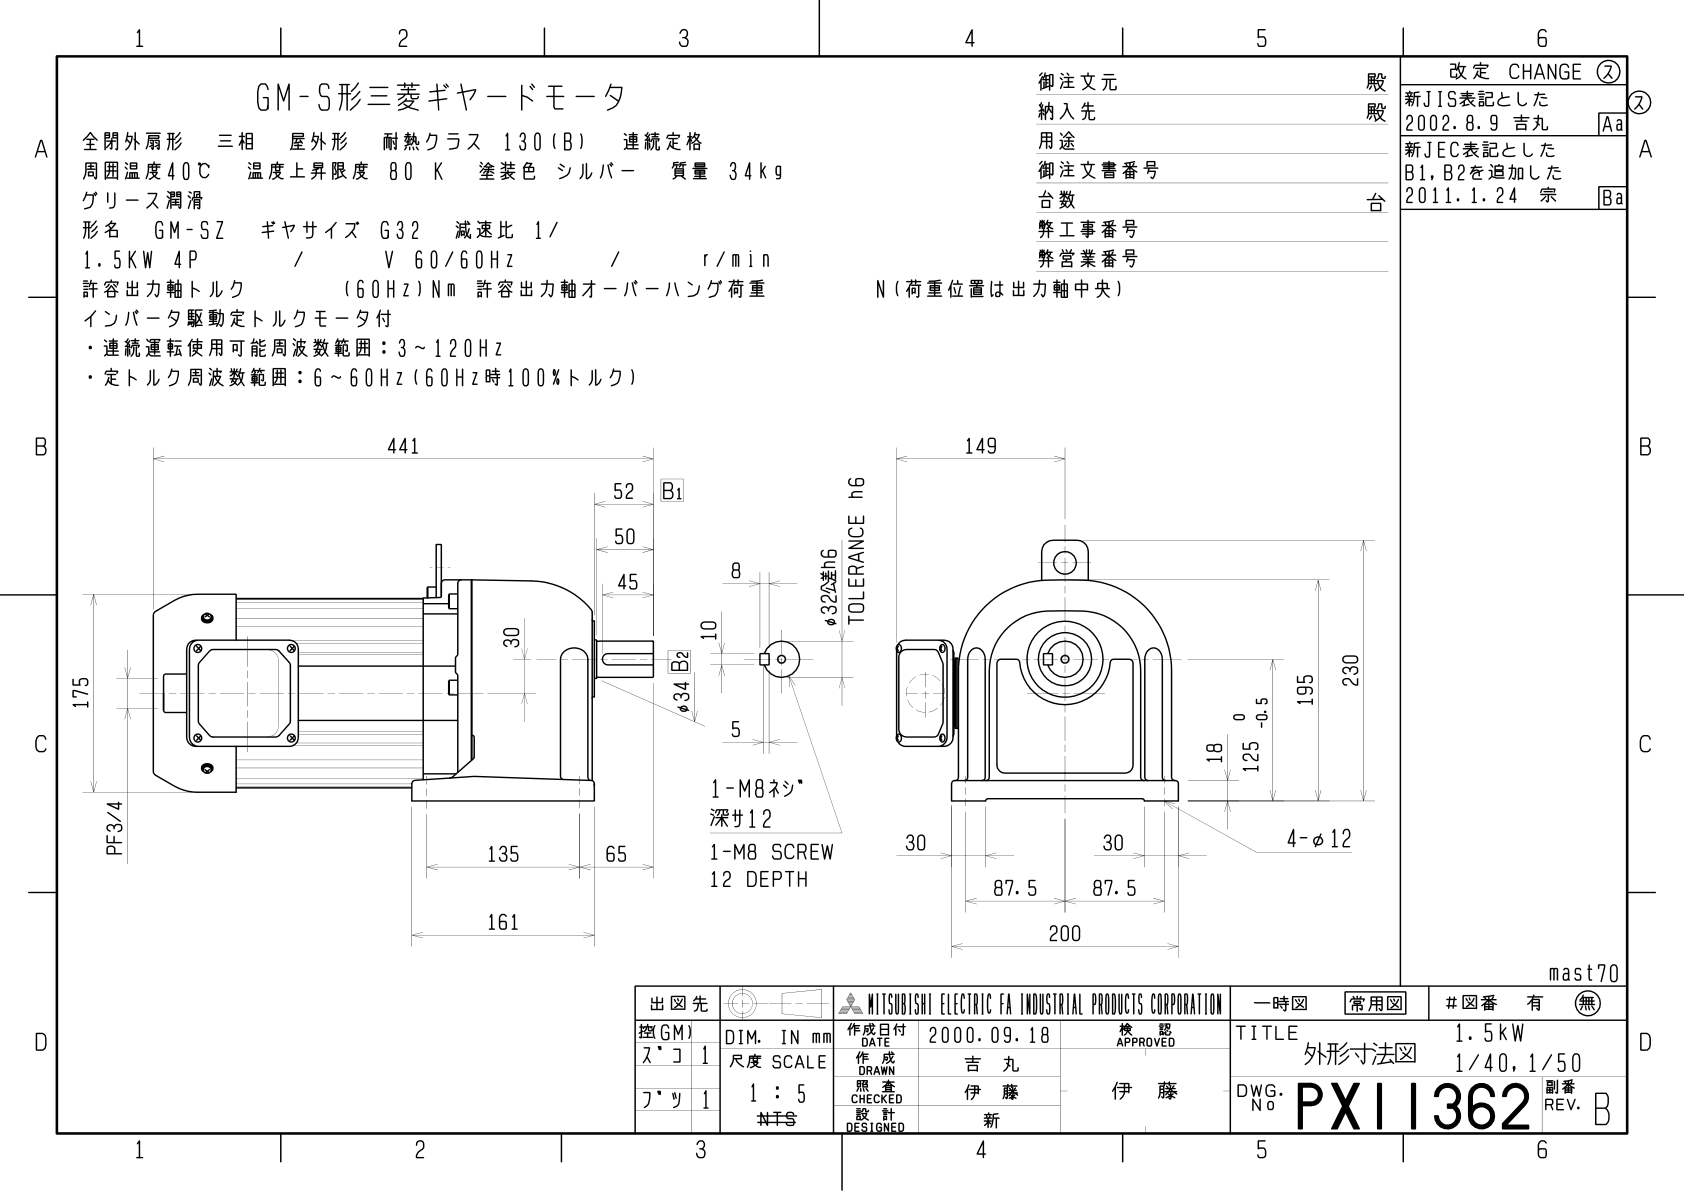GM_S_インバタ屋外＿三相_脚: (67, 398, 1392, 965)
